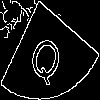Q: (25, 25, 69, 89)
